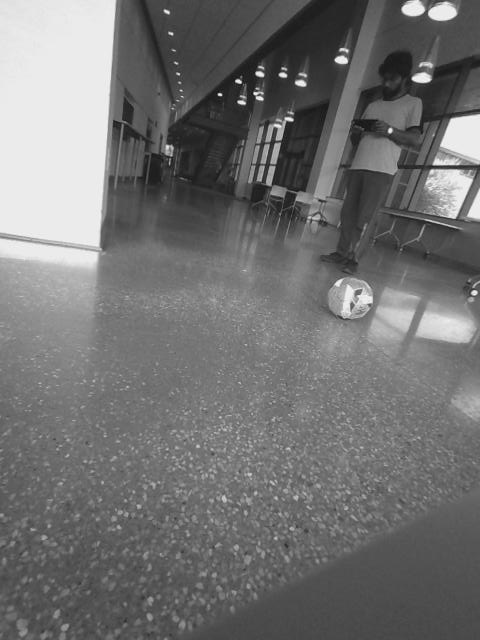ball: (324, 272, 377, 321)
